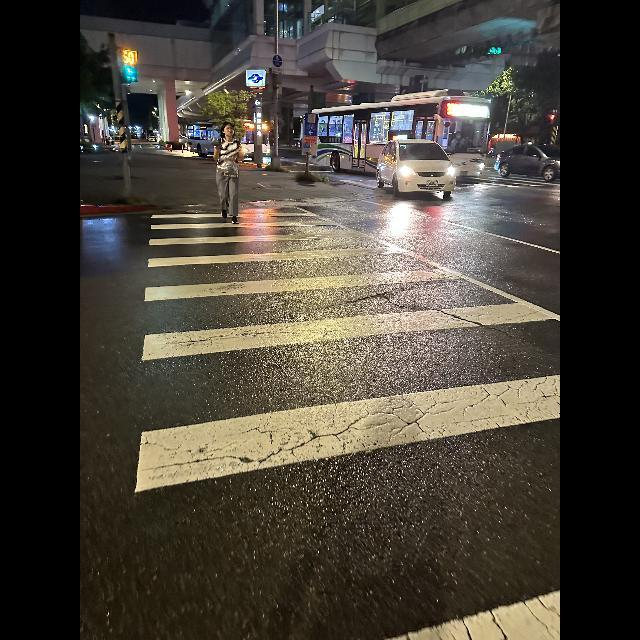sidewalk: (140, 211, 560, 488)
